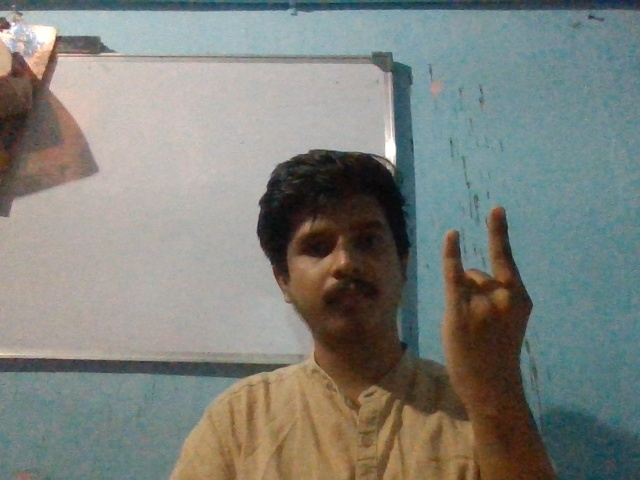Apana: (434, 197, 561, 381)
